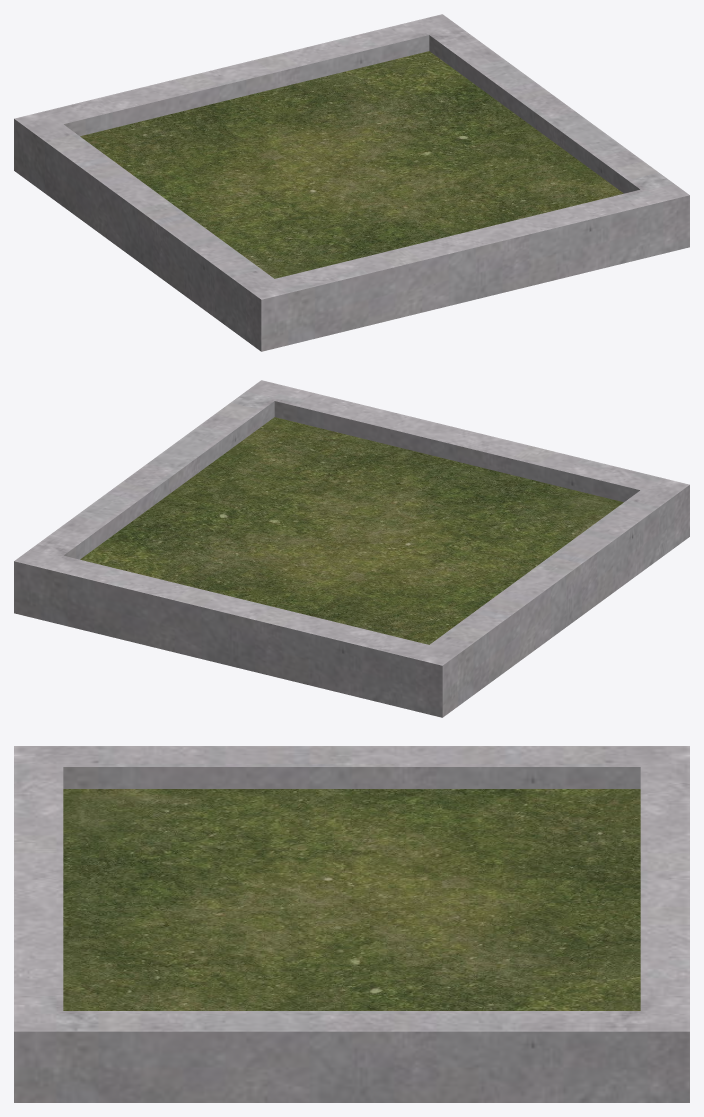
File: tree_bottom.gltf
3 views of the same model, one above another, from view 1: azimuth 30°, elevation 25°; view 2: azimuth 150°, elevation 25°; view 3: azimuth 270°, elevation 25° (orthographic). The views are drawn at different scales.
Parts seen in each view (by area): view 1: Box001; view 2: Box001; view 3: Box001.
Boxes of the visible parts, <box> form: Box001: <box>14,14,689,351</box>; Box001: <box>14,380,689,717</box>; Box001: <box>14,746,689,1102</box>.
Size of the model in its own units: 1 by 0.1161 by 1.
2 materials, 2 textured.
